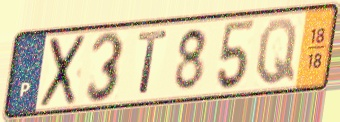3: (84, 29, 127, 105)
5: (214, 17, 257, 93)
8: (172, 26, 209, 93)
Q: (254, 16, 299, 88)
T: (136, 28, 170, 97)
X: (37, 31, 89, 111)
